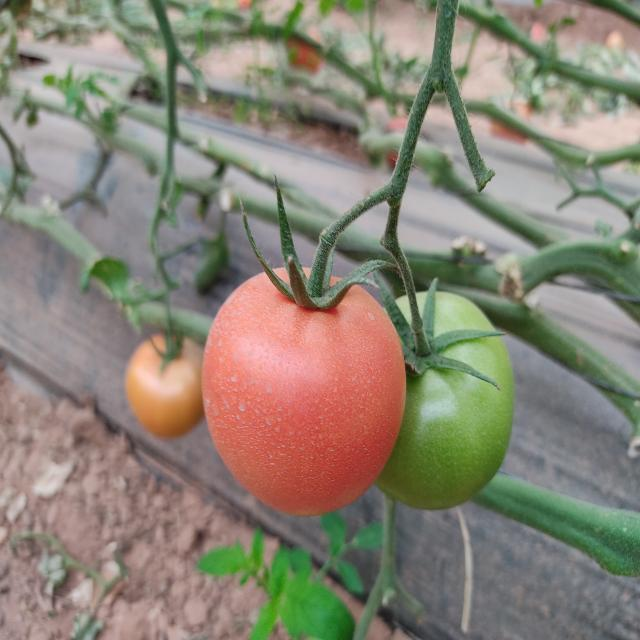Ripe Tomato: (204, 267, 405, 512)
Unripe Tomato: (368, 287, 514, 514), (127, 334, 211, 435)
